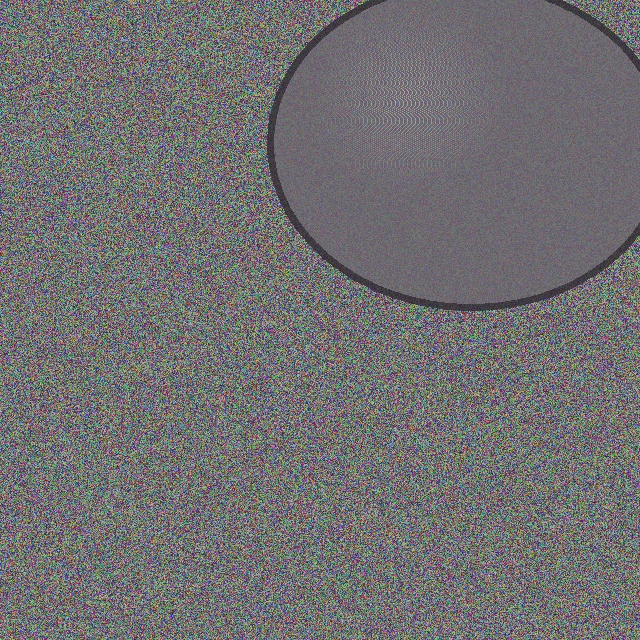lens: (270, 0, 640, 307)
